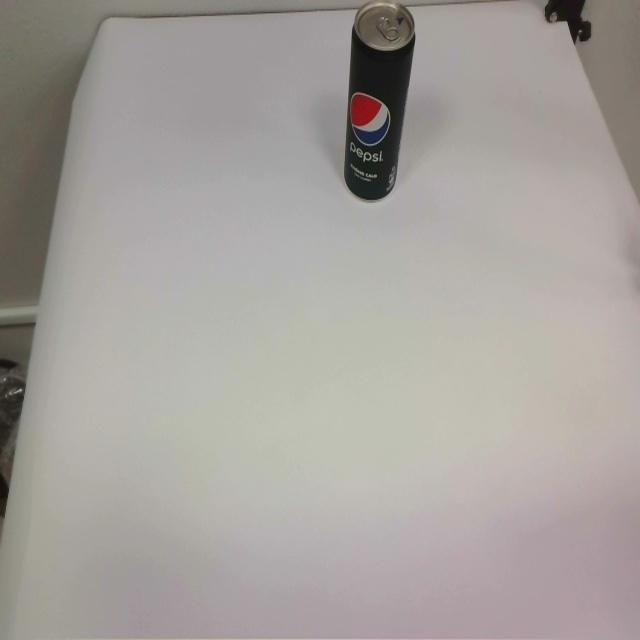debris: (343, 0, 417, 201)
